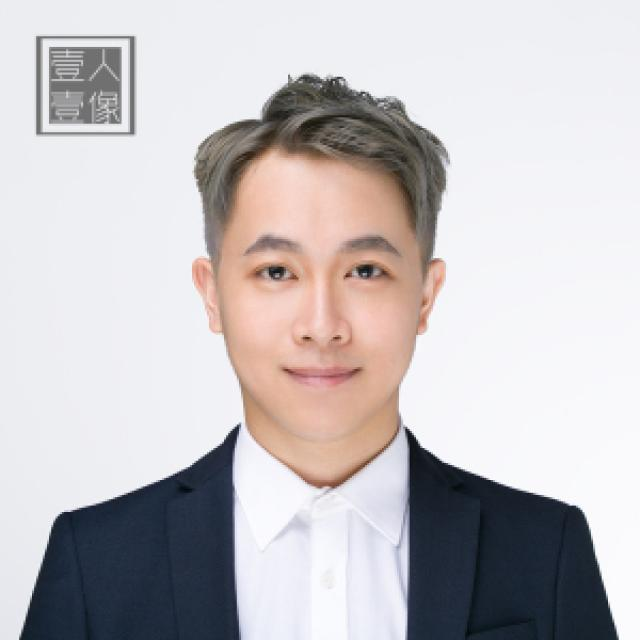Open: (344, 260, 400, 285), (248, 258, 298, 284)
